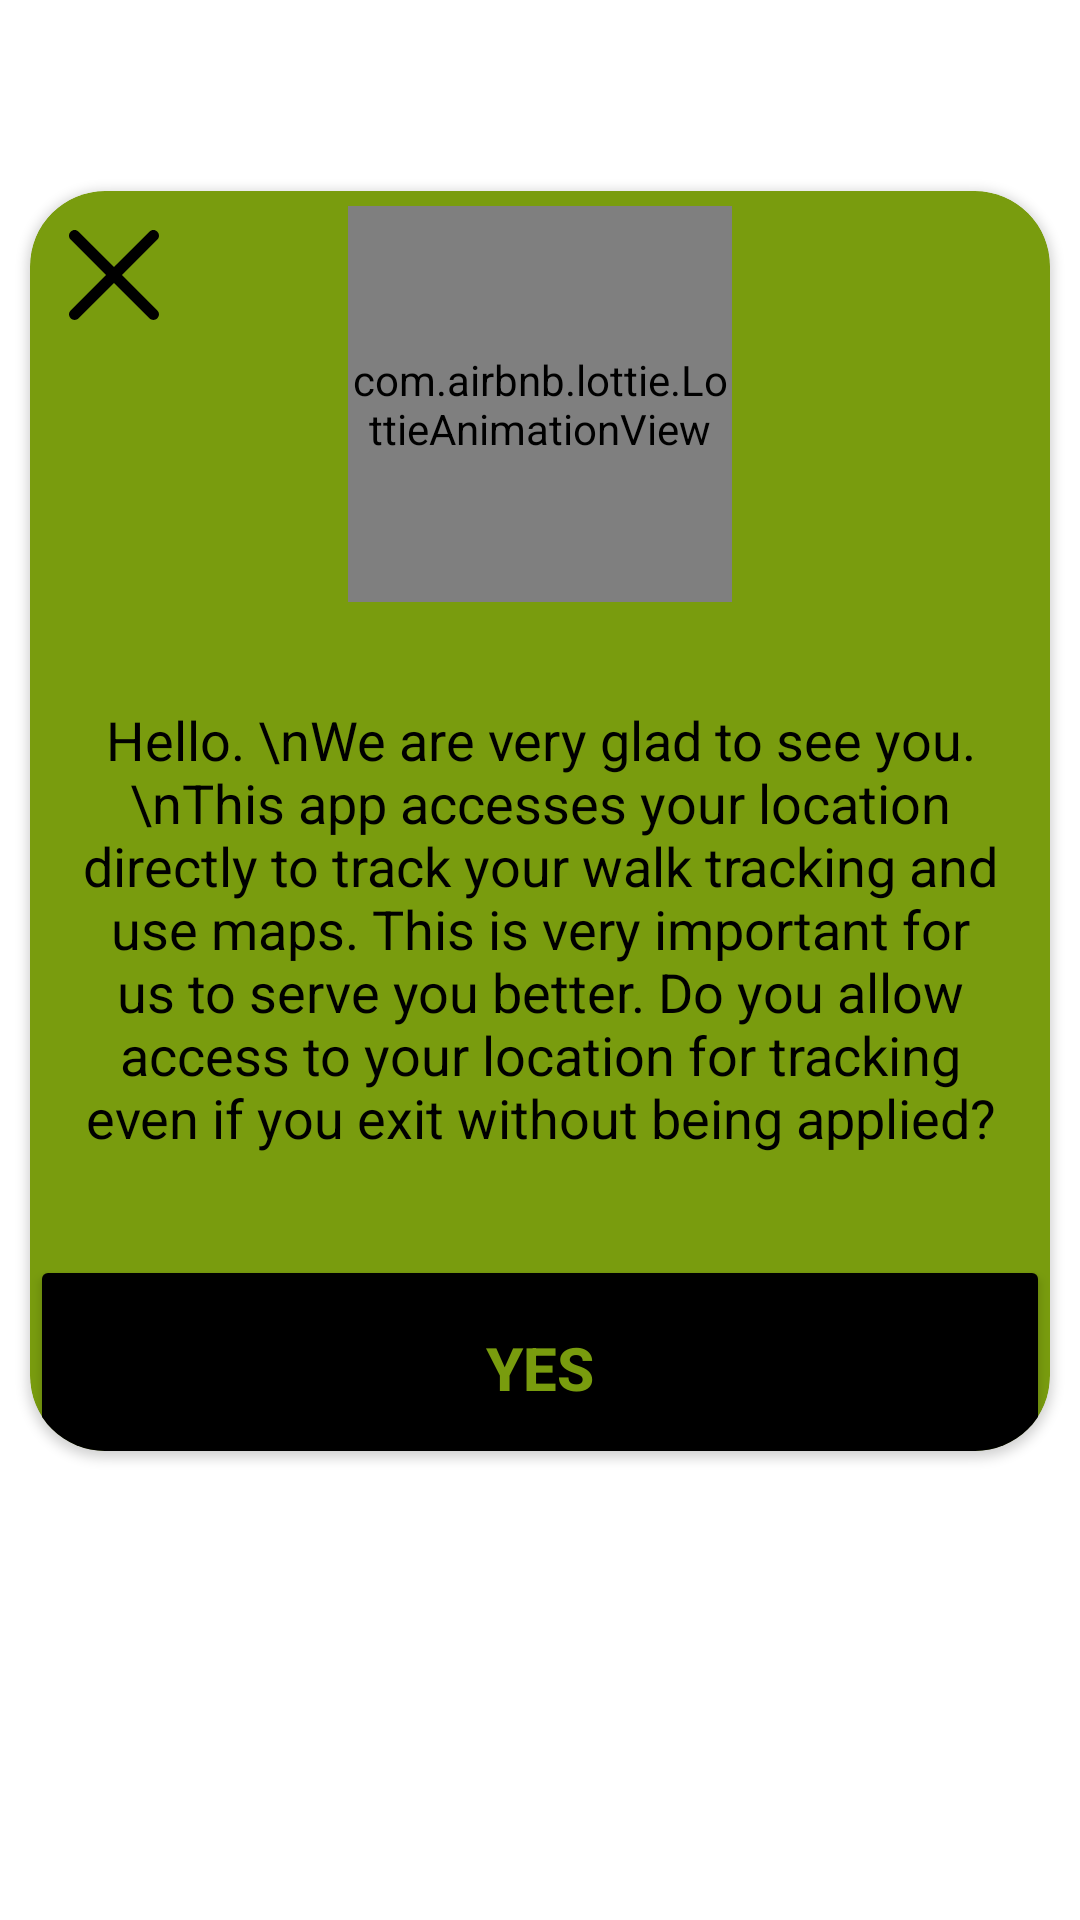

Where to tap for icons on this 1080px×1920px app screen, as [x,y]:
cross: [114,275]
